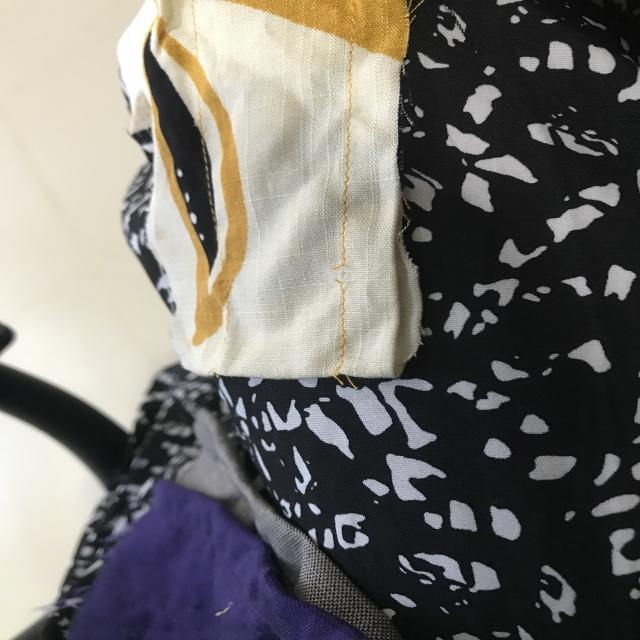broken: (326, 252, 370, 300)
